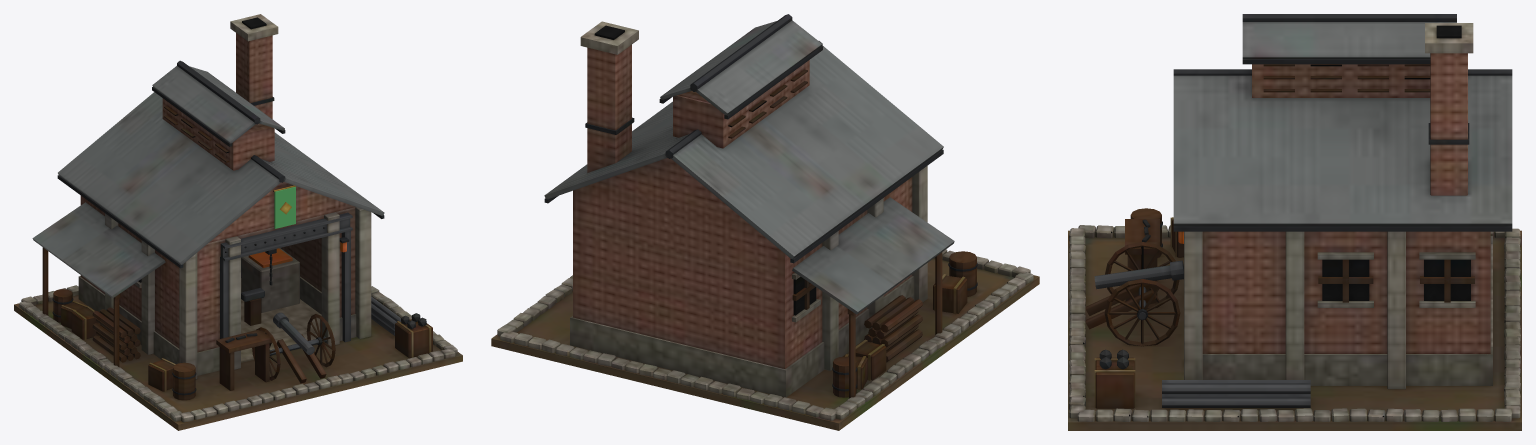
The model's file is oficina-do-aco-v01.glb.
3 renders of one model, left to right at view 1: azimuth 30°, elevation 25°; view 2: azimuth 150°, elevation 25°; view 3: azimuth 270°, elevation 25°, orthographic. The views are drawn at different scales.
Visible parts, largest first — view 1: OficinaAco_LOD0, OficinaAco_Time_LOD0; view 2: OficinaAco_LOD0; view 3: OficinaAco_LOD0.
Boxes of the visible parts, box(x1,y1,x2,y2) form: OficinaAco_LOD0: box(14, 14, 462, 430); OficinaAco_Time_LOD0: box(274, 186, 295, 228); OficinaAco_LOD0: box(491, 14, 1039, 430); OficinaAco_LOD0: box(1068, 14, 1521, 430).
Bounding box in the file's own units: 5.8 × 4.97 × 5.8.
Materials: 2 (1 with a texture image).
